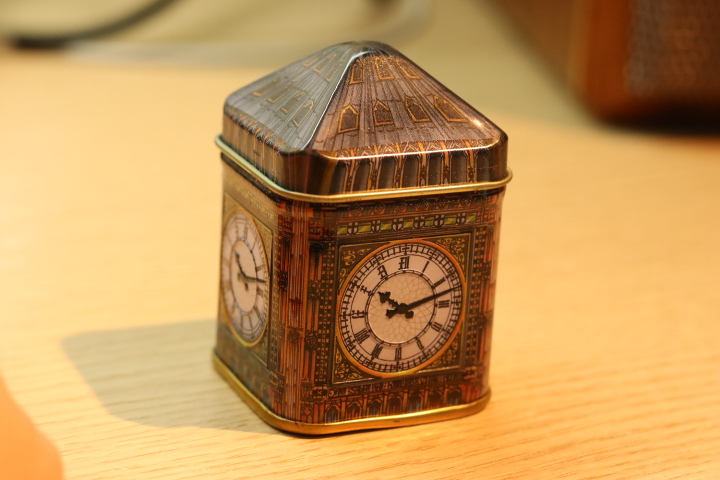Big Ben: (198, 29, 530, 453)
